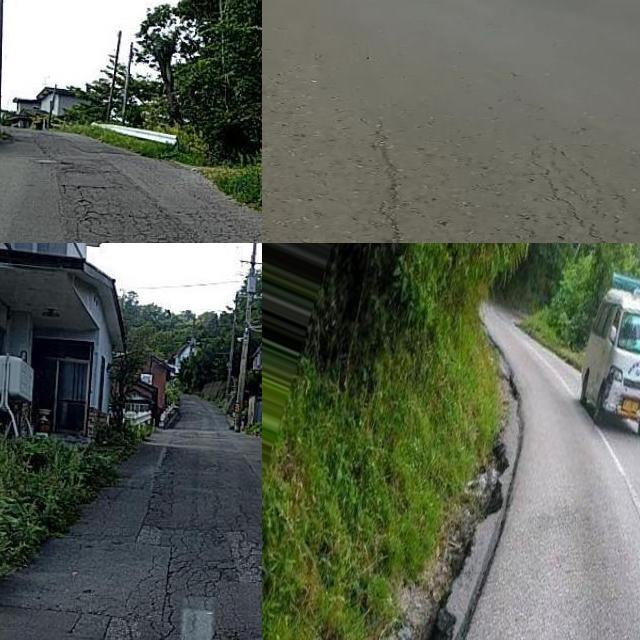Pinggir: (361, 393, 537, 640)
Retak Buaya: (119, 487, 262, 640)
